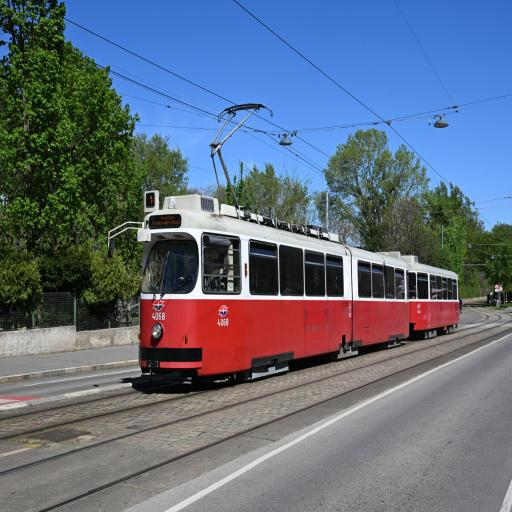E2-Tram: (137, 188, 460, 374)
